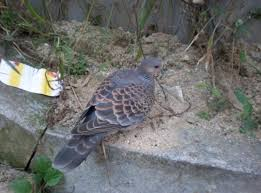pigeon: (52, 49, 168, 171)
